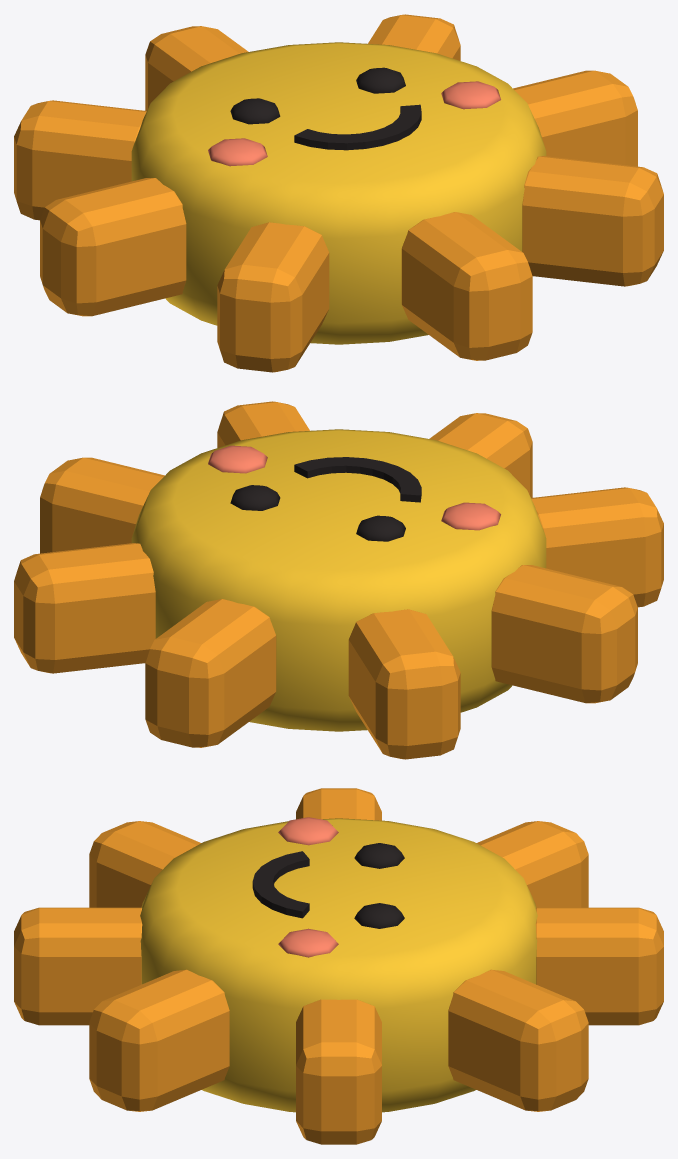
File: sunshine.glb
3 views of the same model, one above another, from view 1: azimuth 30°, elevation 25°; view 2: azimuth 150°, elevation 25°; view 3: azimuth 270°, elevation 25° (orthographic). The views are drawn at different scales.
Parts seen in each view (by area): view 1: sunshine; view 2: sunshine; view 3: sunshine.
Boxes of the visible parts, x1,y1,x2,y2 form: sunshine: (14,14,663,372); sunshine: (14,401,663,759); sunshine: (14,788,663,1144).
Size of the model in its own units: 1.28 by 0.365 by 1.28.
